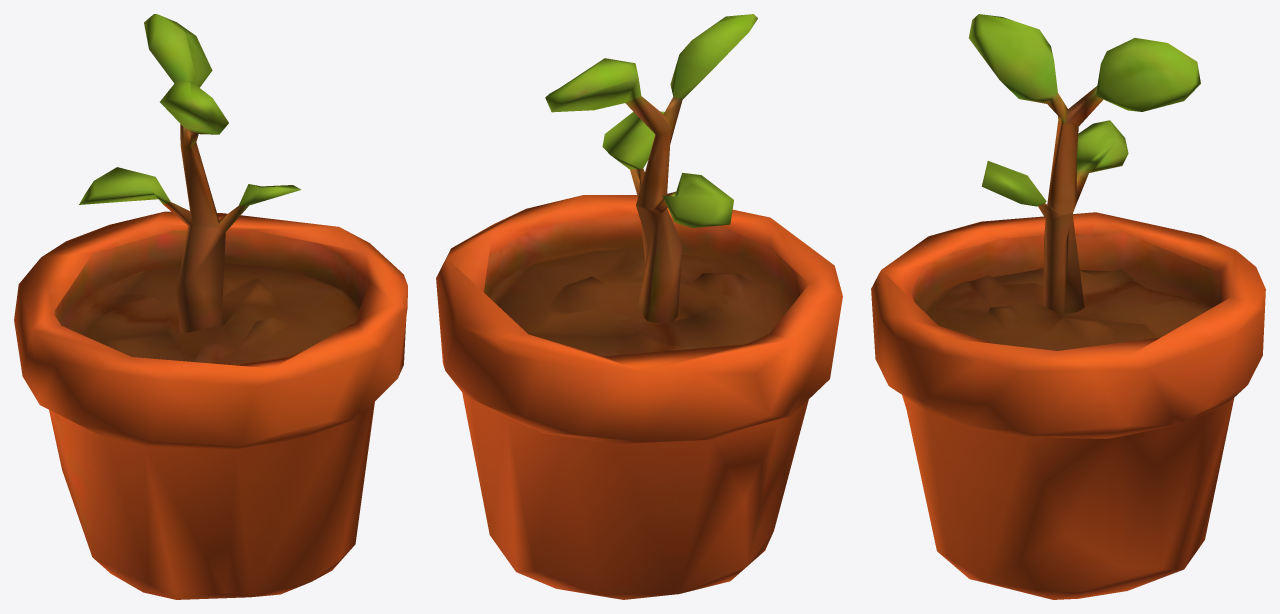
3 views of the same model, side by side, from view 1: azimuth 30°, elevation 25°; view 2: azimuth 150°, elevation 25°; view 3: azimuth 270°, elevation 25° (orthographic). The views are drawn at different scales.
Visible parts, largest first — view 1: tripo_node_e120a446-73b2-492c-a73e-3158402d3439; view 2: tripo_node_e120a446-73b2-492c-a73e-3158402d3439; view 3: tripo_node_e120a446-73b2-492c-a73e-3158402d3439.
Part boxes in pixels (<box>): tripo_node_e120a446-73b2-492c-a73e-3158402d3439: <box>14,14,407,599</box>; tripo_node_e120a446-73b2-492c-a73e-3158402d3439: <box>436,14,842,599</box>; tripo_node_e120a446-73b2-492c-a73e-3158402d3439: <box>871,14,1265,599</box>.
Size of the model in its own units: 0.7873 by 1.12 by 0.7946.
Materials: 1 (1 with a texture image).
